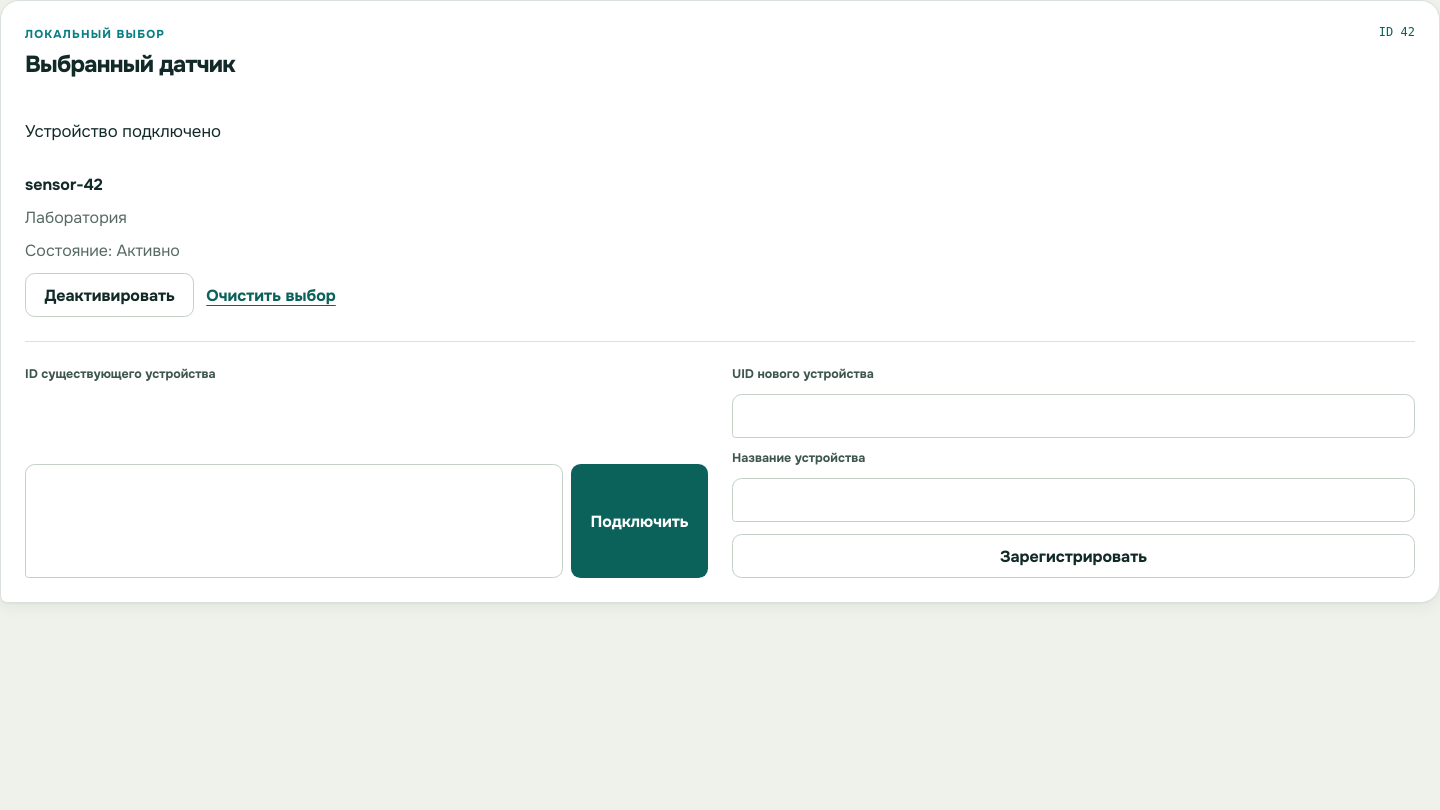
DevicePanel › updates device status and exposes a clear action
Expected: the text "sensor-42" is shown, 25,174 -> 103,195
Click the button "Деактивировать" at (110, 295), box 25,273 -> 194,317
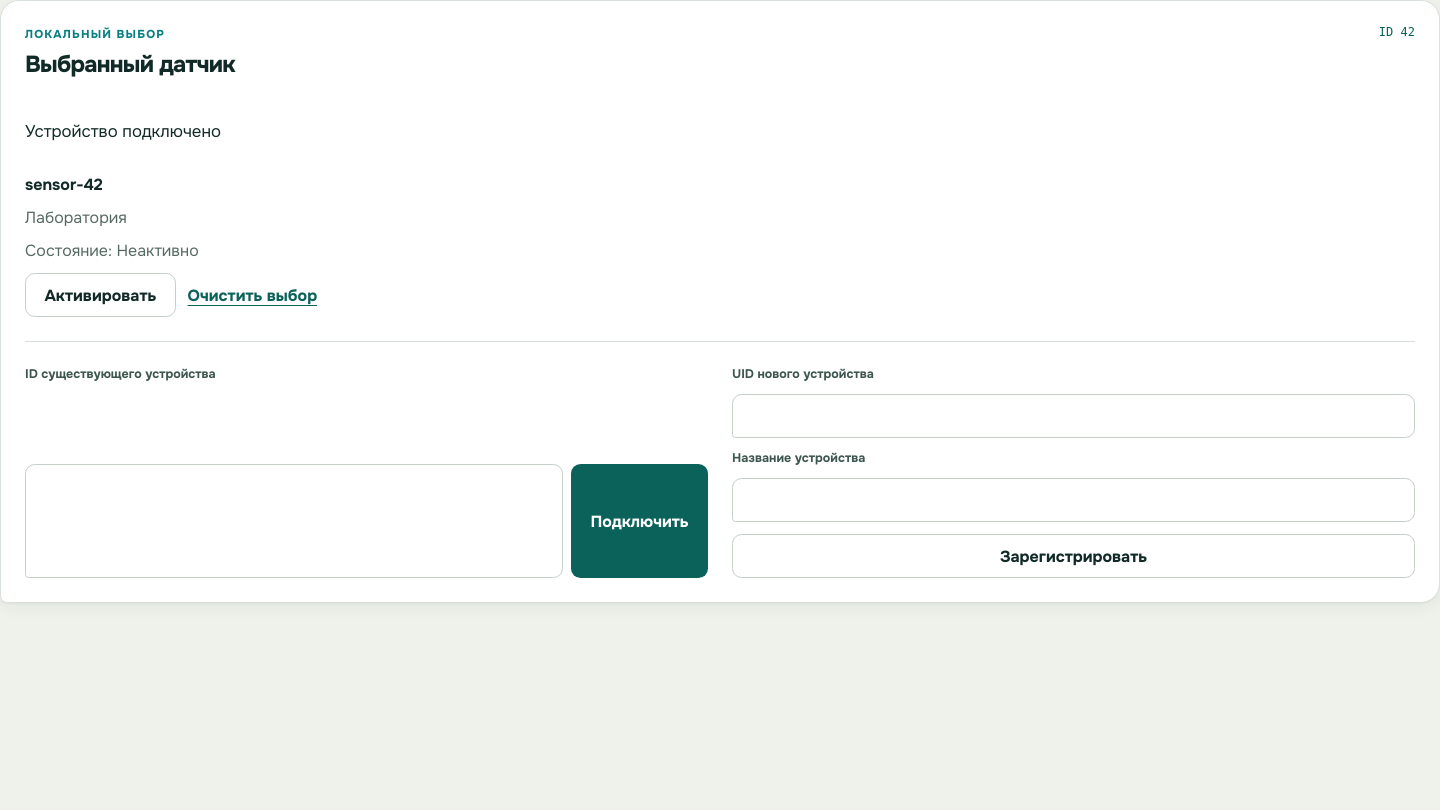
Expected: the text "Состояние: Неактивно" is shown, 25,240 -> 199,261
Click the button "Очистить выбор" at (252, 295), box 188,273 -> 317,317
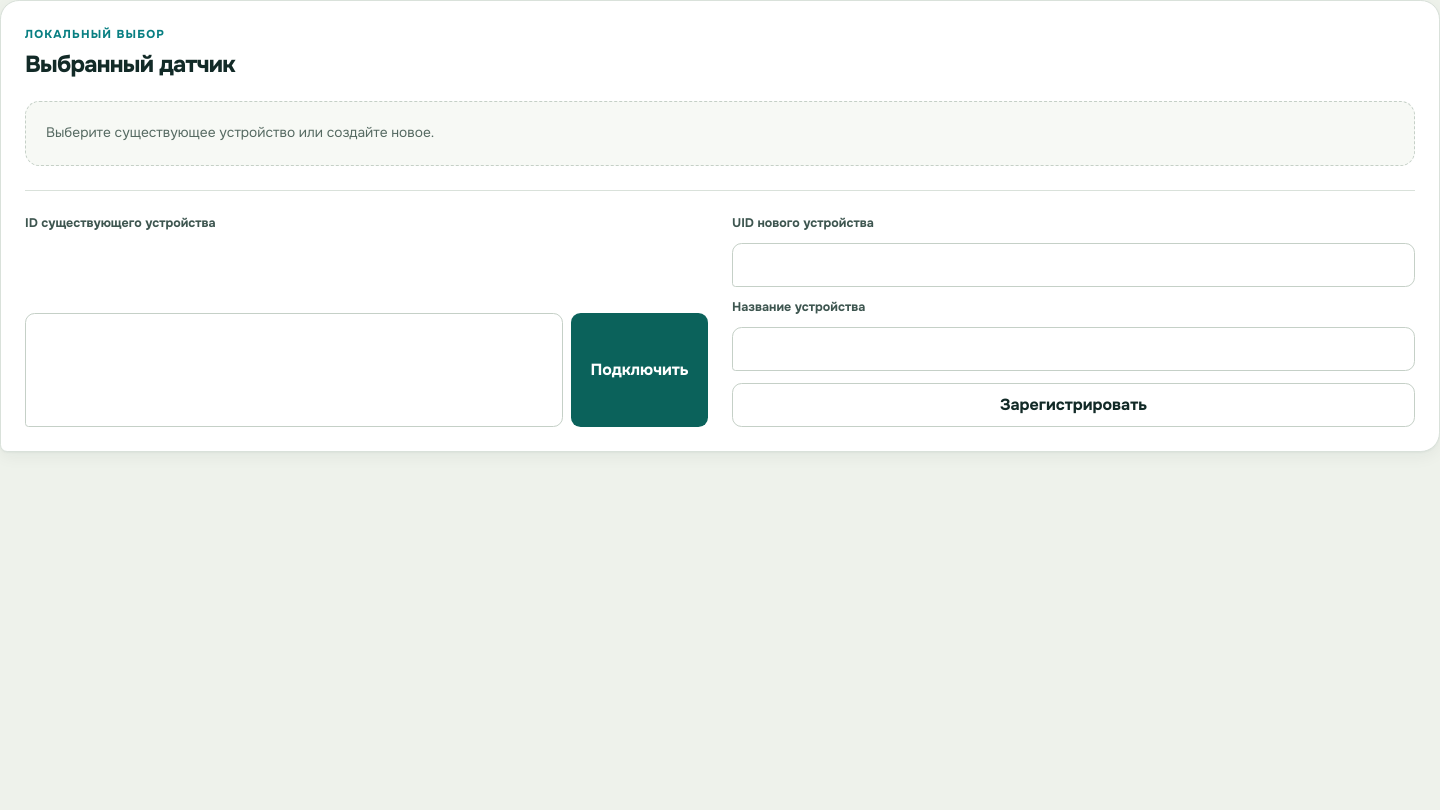
Expected: the text "sensor-42" is gone
